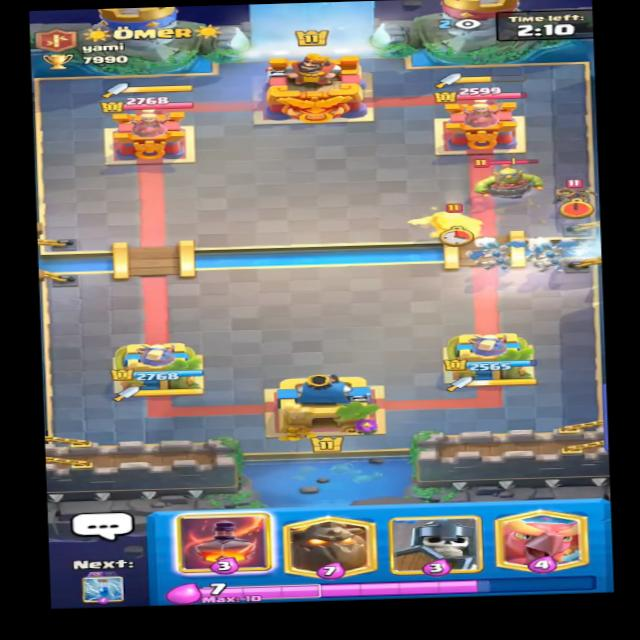Goblindemolisher: (469, 153, 545, 200)
Knight: (408, 199, 484, 244)
Littleprince: (552, 174, 593, 215)
